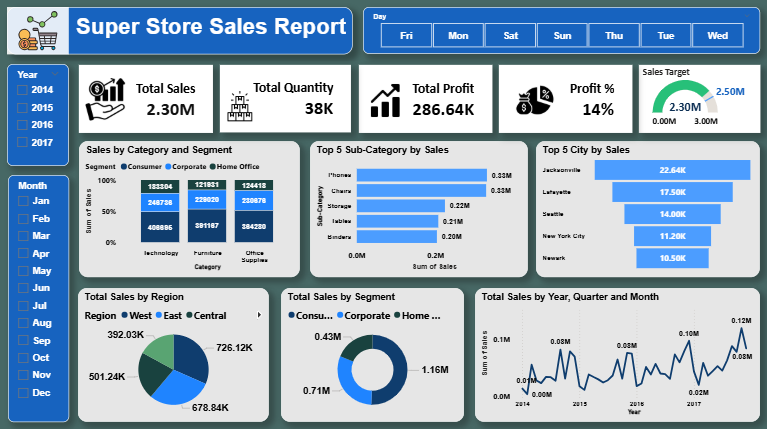

The dashboard page shown, as its layout file describes it:
{"tool":"powerbi","page":{"name":"Page 1","canvas":[1280,720],"ordinal":0},"visuals":[{"type":"group","id":"g1","title":"Group 1","box":[12,12,577,79],"z":0},{"type":"textbox","box":[12.8,12.2,576.2,78.8],"z":0,"group":"g1"},{"type":"cardVisual","fields":{"Data":["Sum(Orders.Quantity)"]},"box":[367.1,108.3,218.3,111.7],"z":7,"group":"g9"},{"type":"cardVisual","fields":{"Data":["Sum(Orders.Profit)"]},"box":[597.5,108.3,221.7,113.3],"z":8,"group":"g7"},{"type":"cardVisual","fields":{"Data":["Orders.Profit %"]},"box":[831.2,108.3,221.7,113.3],"z":9,"group":"g10"},{"type":"image","box":[374,139.4,53.3,73.9],"z":12,"group":"g9"},{"type":"image","box":[609,125.5,63.6,85],"z":13,"group":"g7"},{"type":"image","box":[838.8,133.3,103.1,68.3],"z":15,"group":"g10"},{"type":"cardVisual","fields":{"Data":["Sum(Orders.Sales)"]},"box":[131.7,108.3,223.3,113.3],"z":500,"group":"g5"},{"type":"image","box":[12,12,102.9,79],"z":1000,"group":"g1"},{"type":"slicer","fields":{"Values":["Orders.Year"]},"box":[11.7,106.7,103.3,170],"z":1000},{"type":"image","box":[139.9,119.4,71,91.7],"z":1000,"group":"g5"},{"type":"slicer","fields":{"Values":["Orders.Month Name"]},"box":[13.3,291.7,101.7,411.7],"z":2000},{"type":"slicer","fields":{"Values":["Orders.Day Name"]},"box":[605,11.7,661.7,78.3],"z":3000},{"type":"group","id":"g2","title":"Group 2","box":[131.7,108.3,223.3,113.3],"z":4000},{"type":"group","id":"g3","title":"Group 4","box":[597.5,108.3,221.7,113.3],"z":6000},{"type":"pieChart","title":"Total Sales by Region","fields":{"Category":["Orders.Region"],"Y":["Sum(Orders.Sales)"]},"box":[130,480,318.3,223.3],"z":9000},{"type":"hundredPercentStackedColumnChart","title":"Sales by Category and Segment","fields":{"Category":["Orders.Category"],"Series":["Orders.Segment"],"Y":["Sum(Orders.Sales)"]},"box":[131.7,235,368.3,226.7],"z":10000},{"type":"barChart","title":"Top 5 Sub-Category by Sales","fields":{"Category":["Orders.Sub-Category"],"Y":["Sum(Orders.Sales)"]},"box":[515.9,235.3,362.8,226.8],"z":11000},{"type":"funnel","title":"Top 5 City by Sales","fields":{"Category":["Orders.City"],"Y":["Sum(Orders.Sales)"]},"box":[893.3,235,373.3,226.7],"z":12000},{"type":"donutChart","title":"Total Sales by Segment","fields":{"Category":["Orders.Segment"],"Y":["Sum(Orders.Sales)"]},"box":[468.3,480,305,223.3],"z":13000},{"type":"lineChart","title":"Total Sales by Year, Quarter and Month","fields":{"Category":["Orders.Order Date.Variation.Date Hierarchy.Year","Orders.Order Date.Variation.Date Hierarchy.Quarter","Orders.Order Date.Variation.Date Hierarchy.Month"],"Y":["Sum(Orders.Sales)"]},"box":[791.7,480,475,223.3],"z":13001},{"type":"gauge","title":"Sales Target","fields":{"Y":["Sum(Orders.Sales)"]},"box":[1065,107.5,201.7,113.3],"z":13002},{"type":"group","id":"g4","title":"Group 7","box":[131.7,108.3,223.3,113.3],"z":13003,"group":"g2"},{"type":"group","id":"g5","title":"Group 3","box":[131.7,108.3,223.3,113.3],"z":13003,"group":"g4"},{"type":"group","id":"g6","title":"Group 8","box":[367.1,108.3,218.3,111.7],"z":13003},{"type":"group","id":"g7","title":"Group 9","box":[597.5,108.3,221.7,113.3],"z":13004,"group":"g3"},{"type":"group","id":"g8","title":"Group 6","box":[831.2,108.3,221.7,113.3],"z":13004},{"type":"group","id":"g9","title":"Group 10","box":[367.1,108.3,218.3,111.7],"z":13005,"group":"g6"},{"type":"group","id":"g10","title":"Group 5","box":[831.2,108.3,221.7,113.3],"z":13005,"group":"g8"}]}

Visuals, with their boxes in screenshot pixels (x1, y1, x2, y2), scaled from the page's 1280x720 canvas onto the 767x429 screenshot:
"Group 1" group: x1=7, y1=7, x2=353, y2=54
textbox: x1=8, y1=7, x2=353, y2=54
cardVisual - Sum(Orders.Quantity): x1=220, y1=65, x2=351, y2=131
cardVisual - Sum(Orders.Profit): x1=358, y1=65, x2=491, y2=132
cardVisual - Orders.Profit %: x1=498, y1=65, x2=631, y2=132
image: x1=224, y1=83, x2=256, y2=127
image: x1=365, y1=75, x2=403, y2=125
image: x1=503, y1=79, x2=564, y2=120
cardVisual - Sum(Orders.Sales): x1=79, y1=65, x2=213, y2=132
image: x1=7, y1=7, x2=69, y2=54
slicer - Orders.Year: x1=7, y1=64, x2=69, y2=165
image: x1=84, y1=71, x2=126, y2=126
slicer - Orders.Month Name: x1=8, y1=174, x2=69, y2=419
slicer - Orders.Day Name: x1=363, y1=7, x2=759, y2=54
"Group 2" group: x1=79, y1=65, x2=213, y2=132
"Group 4" group: x1=358, y1=65, x2=491, y2=132
"Total Sales by Region" pieChart: x1=78, y1=286, x2=269, y2=419
"Sales by Category and Segment" hundredPercentStackedColumnChart: x1=79, y1=140, x2=300, y2=275
"Top 5 Sub-Category by Sales" barChart: x1=309, y1=140, x2=527, y2=275
"Top 5 City by Sales" funnel: x1=535, y1=140, x2=759, y2=275
"Total Sales by Segment" donutChart: x1=281, y1=286, x2=463, y2=419
"Total Sales by Year, Quarter and Month" lineChart: x1=474, y1=286, x2=759, y2=419
"Sales Target" gauge: x1=638, y1=64, x2=759, y2=132
"Group 7" group: x1=79, y1=65, x2=213, y2=132
"Group 3" group: x1=79, y1=65, x2=213, y2=132
"Group 8" group: x1=220, y1=65, x2=351, y2=131
"Group 9" group: x1=358, y1=65, x2=491, y2=132
"Group 6" group: x1=498, y1=65, x2=631, y2=132
"Group 10" group: x1=220, y1=65, x2=351, y2=131
"Group 5" group: x1=498, y1=65, x2=631, y2=132
